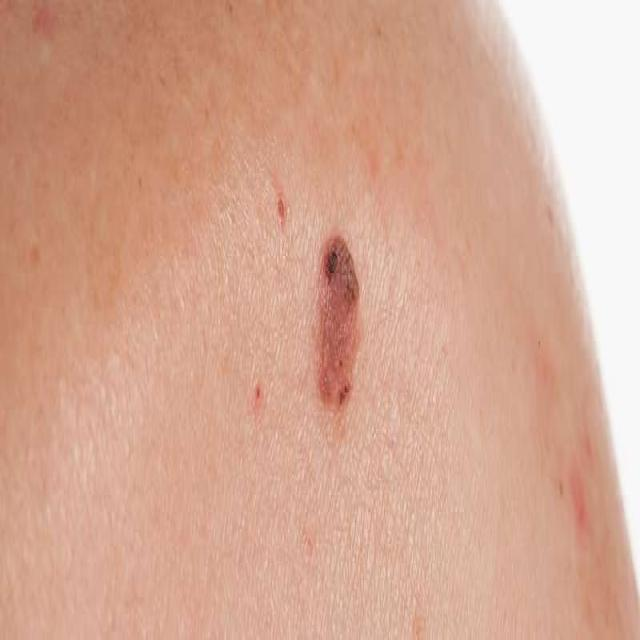Cancer: (306, 207, 364, 419)
